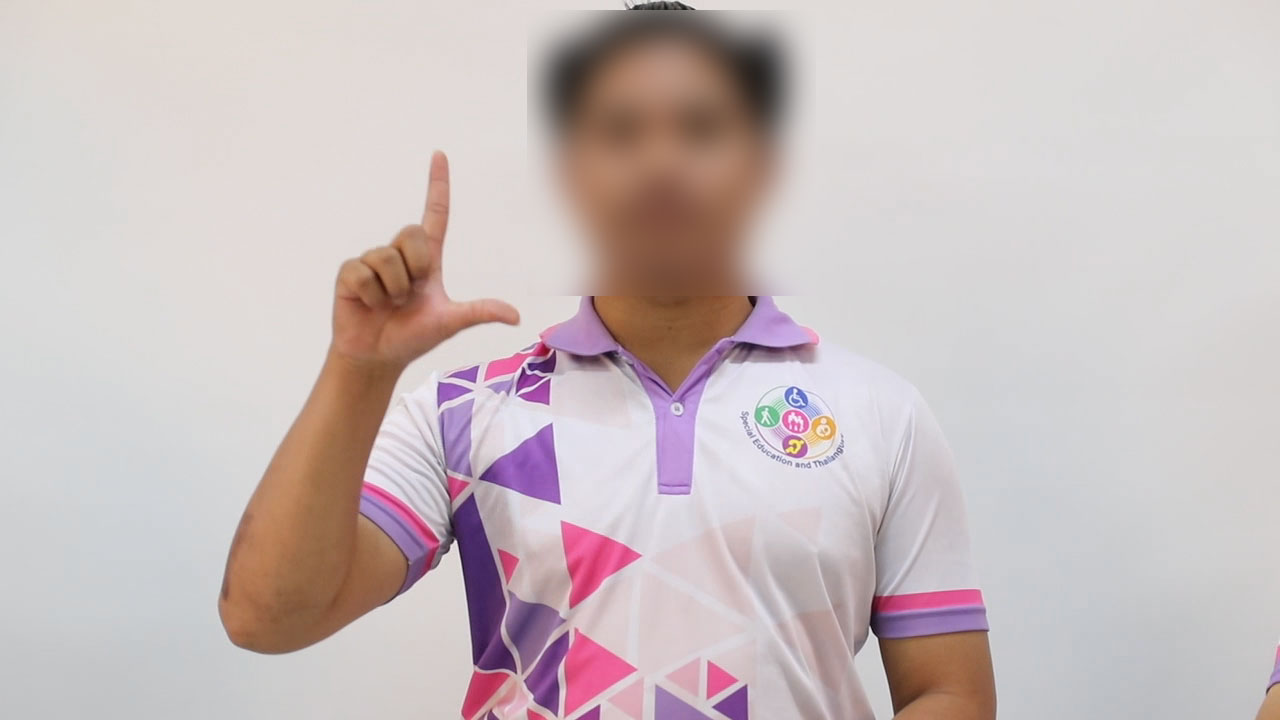lor: (314, 138, 536, 392)
